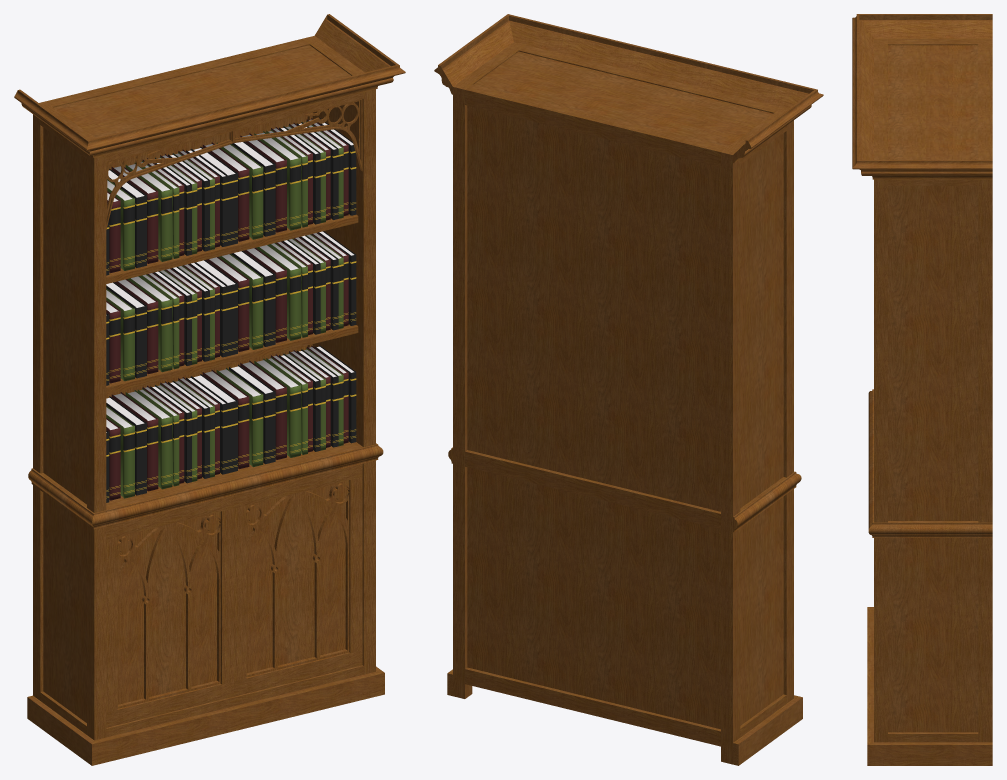
The model's file is Victorian-Gothic-Bookcase.fbx.
3 views of the same model, side by side, from view 1: azimuth 30°, elevation 25°; view 2: azimuth 150°, elevation 25°; view 3: azimuth 270°, elevation 25° (orthographic). The views are drawn at different scales.
Parts seen in each view (by area): view 1: Group33, Group45, Group6, Group41, Group2, Group25, Group3, Group16, Group18, Group24, Group14, Group10 (+79 smaller); view 2: Group20, Group6, Group18, Group2, Group26, Group3, Group24, Group41, Group42, Group11, Group19, Group23 (+4 smaller); view 3: Group37, Group39, Group2, Group26, Group25, Group22, Group24, Group15, Group14, Group23, Group42, Group30 (+4 smaller).
Boxes of the visible parts, x1=… form: Group33: x1=117, y1=511, x2=220, y2=708; Group45: x1=246, y1=480, x2=349, y2=677; Group6: x1=43, y1=127, x2=86, y2=504; Group41: x1=87, y1=154, x2=106, y2=740; Group2: x1=54, y1=45, x2=351, y2=138; Group25: x1=356, y1=89, x2=375, y2=674; Group3: x1=43, y1=492, x2=86, y2=722; Group16: x1=92, y1=672, x2=384, y2=765; Group18: x1=33, y1=101, x2=51, y2=700; Group24: x1=86, y1=65, x2=405, y2=157; Group14: x1=28, y1=443, x2=383, y2=529; Group10: x1=106, y1=665, x2=363, y2=737; Group20: x1=467, y1=105, x2=720, y2=729; Group6: x1=740, y1=133, x2=783, y2=507; Group18: x1=721, y1=147, x2=740, y2=764; Group2: x1=473, y1=51, x2=772, y2=146; Group26: x1=453, y1=81, x2=472, y2=698; Group3: x1=740, y1=496, x2=783, y2=725; Group24: x1=507, y1=14, x2=820, y2=108; Group41: x1=775, y1=107, x2=793, y2=703; Group42: x1=465, y1=84, x2=727, y2=167; Group11: x1=465, y1=667, x2=720, y2=746; Group19: x1=465, y1=450, x2=720, y2=528; Group23: x1=434, y1=14, x2=513, y2=94; Group37: x1=888, y1=186, x2=978, y2=520; Group39: x1=888, y1=538, x2=978, y2=732; Group2: x1=888, y1=45, x2=978, y2=159; Group26: x1=978, y1=179, x2=992, y2=742; Group25: x1=874, y1=179, x2=887, y2=742; Group22: x1=856, y1=14, x2=992, y2=38; Group24: x1=852, y1=14, x2=873, y2=173; Group15: x1=867, y1=607, x2=992, y2=765; Group14: x1=868, y1=389, x2=992, y2=537; Group23: x1=852, y1=160, x2=992, y2=179; Group42: x1=978, y1=44, x2=992, y2=159; Group30: x1=874, y1=44, x2=887, y2=159.
Bounding box in the file's own units: 60.68 × 115 × 23.89.
